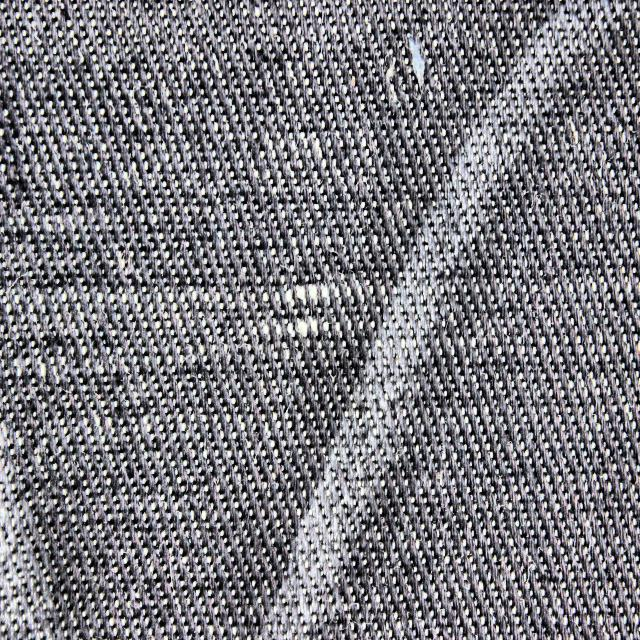Hole: (248, 280, 342, 340)
